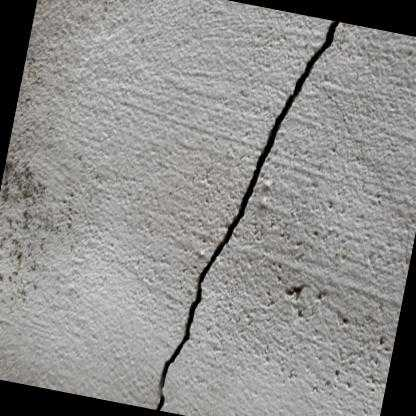crack: (155, 20, 339, 411)
